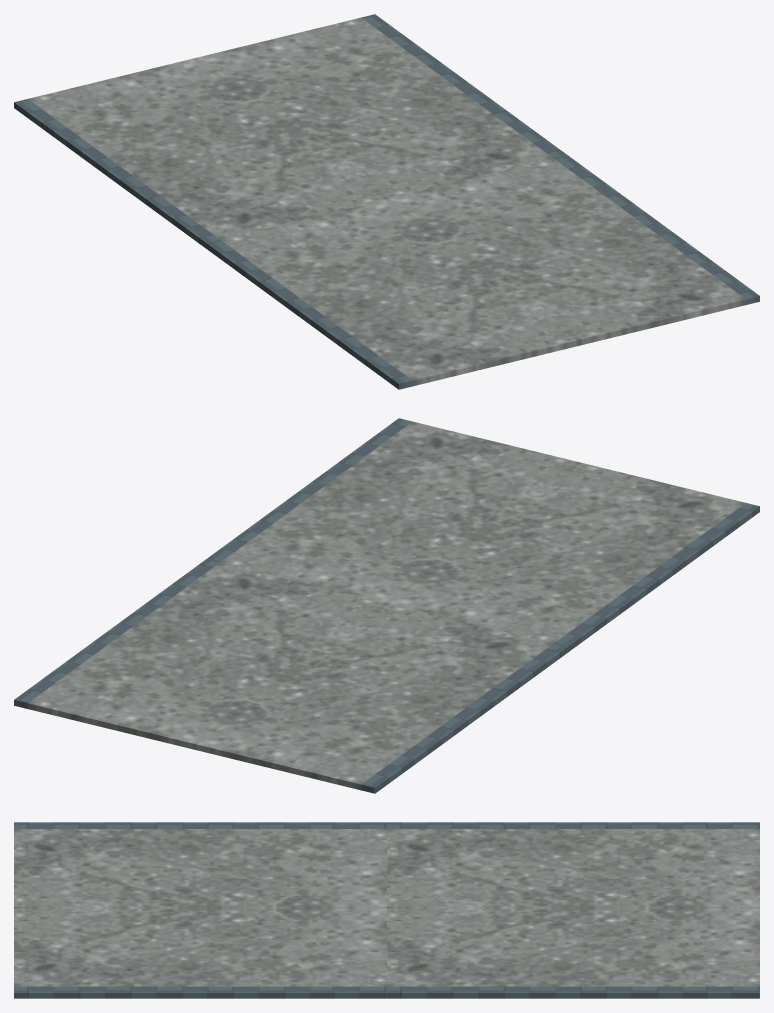
File: BasicRoad 2.fbx
The picture shows the model from 3 angles, top to bottom: view 1: azimuth 30°, elevation 25°; view 2: azimuth 150°, elevation 25°; view 3: azimuth 270°, elevation 25°; orthographic projection. The views are drawn at different scales.
Parts seen in each view (by area): view 1: BasicRoad 2; view 2: BasicRoad 2; view 3: BasicRoad 2.
Part boxes in pixels (<box>): BasicRoad 2: <box>14,14,759,389</box>; BasicRoad 2: <box>14,418,759,793</box>; BasicRoad 2: <box>14,822,759,998</box>.
Bounding box in the file's own units: 650 × 10 × 1200.
